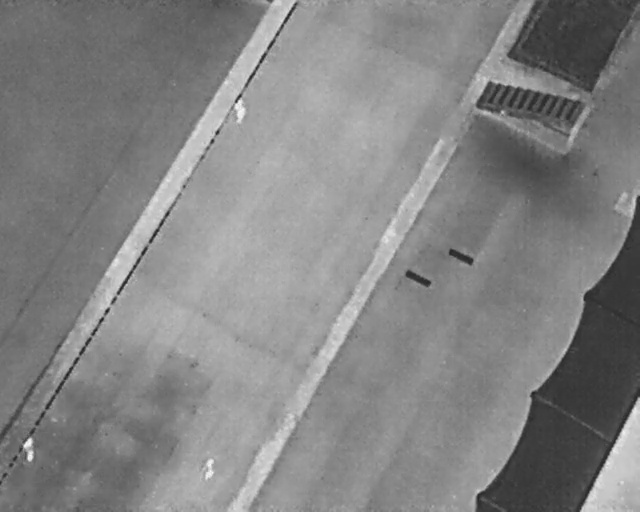Person: (21, 433, 36, 464), (200, 455, 216, 482), (233, 98, 246, 122)
